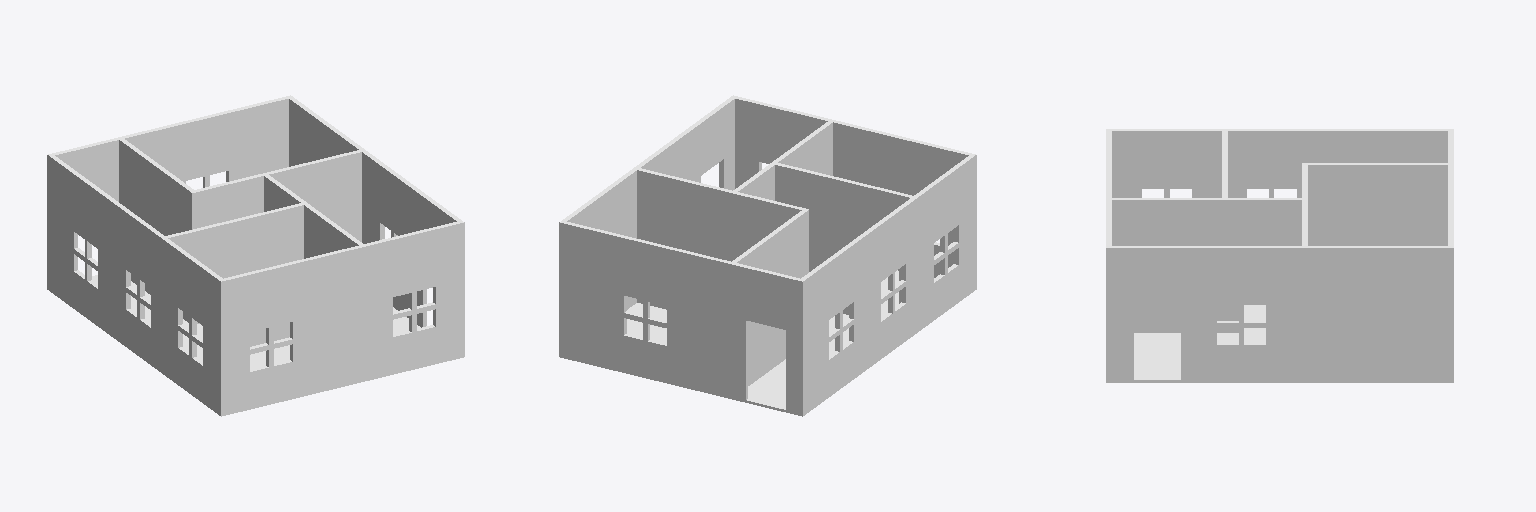
File: House.obj
3 views of the same model, side by side, from view 1: azimuth 30°, elevation 25°; view 2: azimuth 150°, elevation 25°; view 3: azimuth 270°, elevation 25° (orthographic).
Visible parts, largest first — view 1: House; view 2: House; view 3: House.
Part boxes in pixels (x1,y1,x2,y2): House: (47, 95, 464, 416); House: (559, 95, 976, 416); House: (1106, 129, 1453, 382).
Bounding box in the file's own units: 102 × 54 × 126.